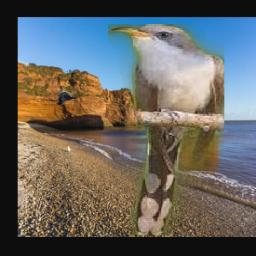Crow: (56, 89, 76, 106)
Cuckoo: (109, 24, 225, 235)
